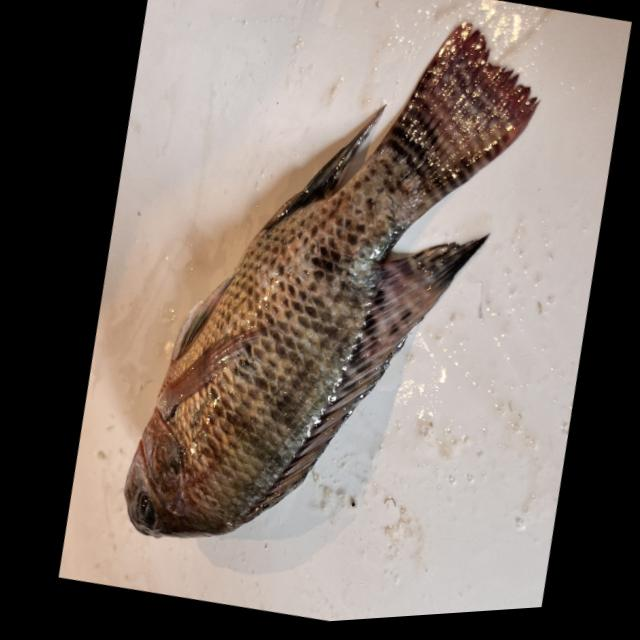Tilapia: (77, 0, 590, 610)
